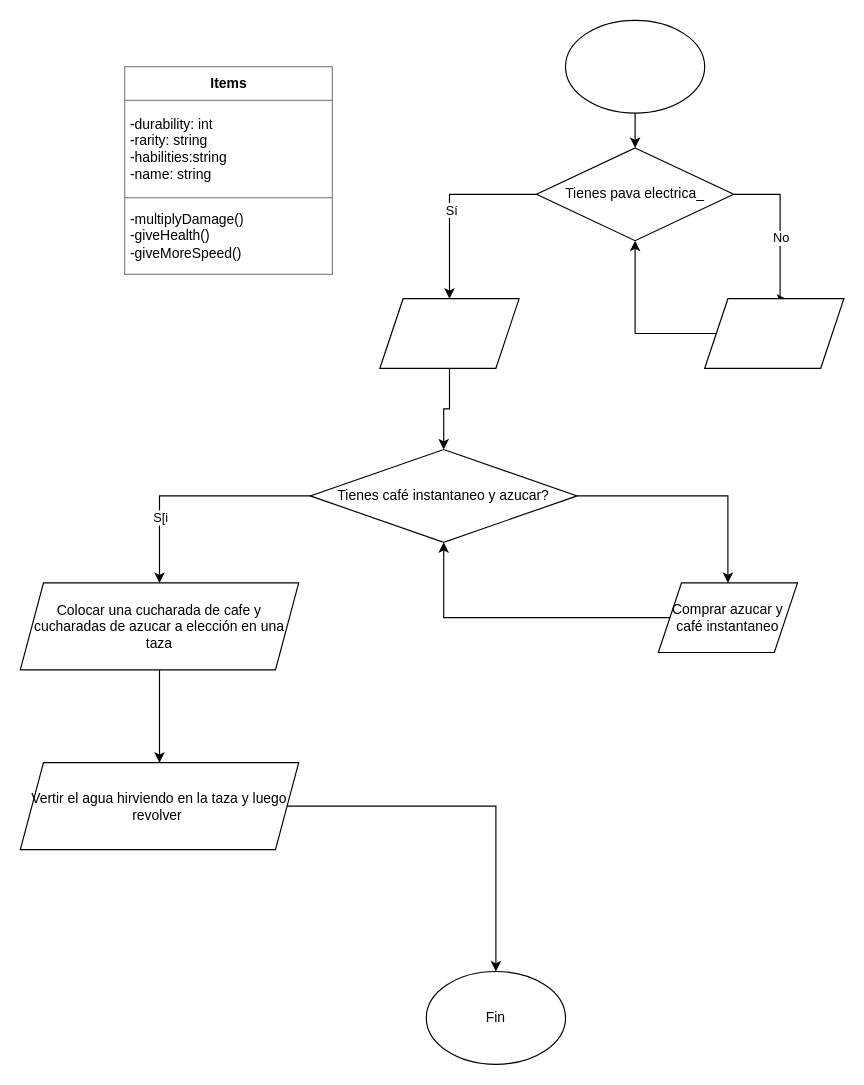
Some shapes in this 864 by 1085 pixel diagram are drawn without their labels. Here are the shapes that lost their labels. From the top down, the box of each, then its label:
(564, 19, 705, 113): Hacer café
(379, 298, 519, 368): Hervir agua en la pava electrica
(704, 298, 844, 368): Comprar una pava electrica
